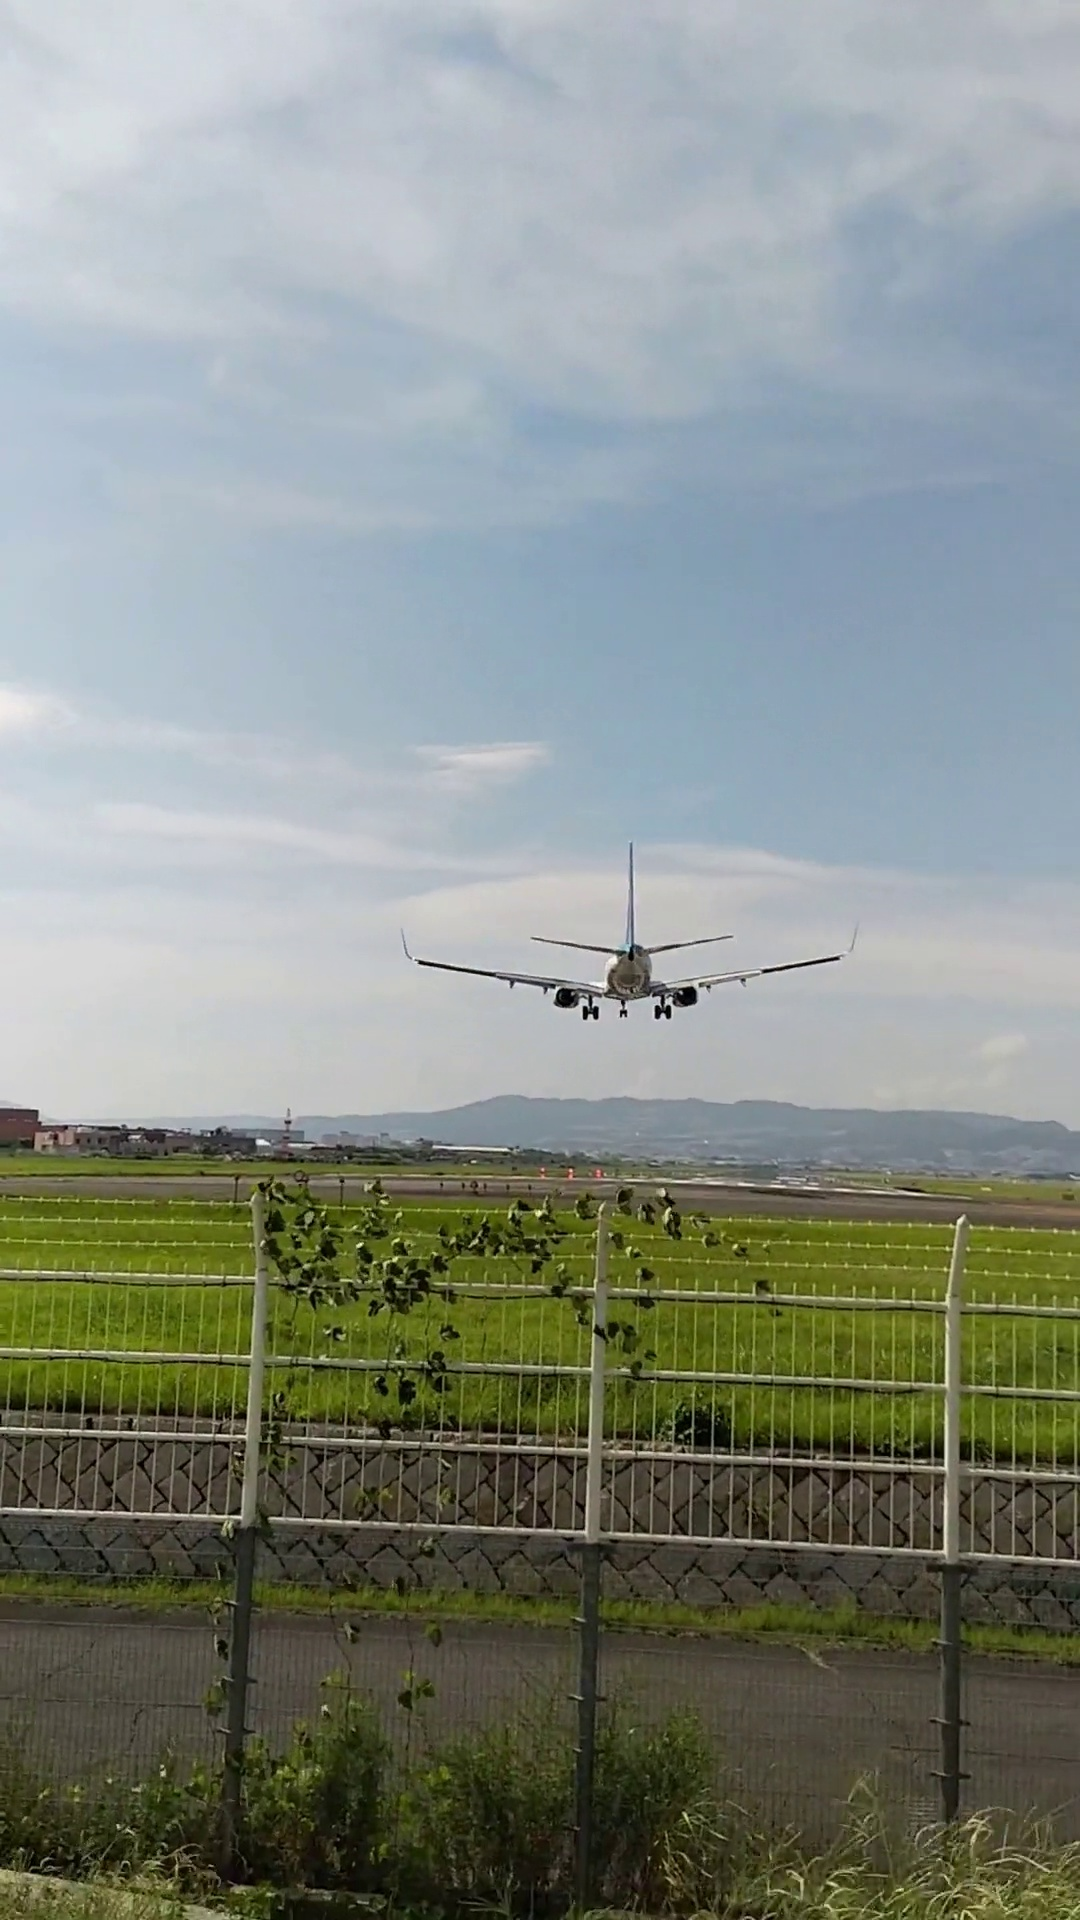plane: (396, 837, 858, 1026)
